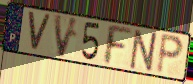5: (81, 21, 101, 62)
F: (104, 23, 134, 67)
N: (128, 28, 161, 75)
P: (154, 32, 185, 76)
V: (53, 12, 81, 60), (26, 9, 53, 53)
